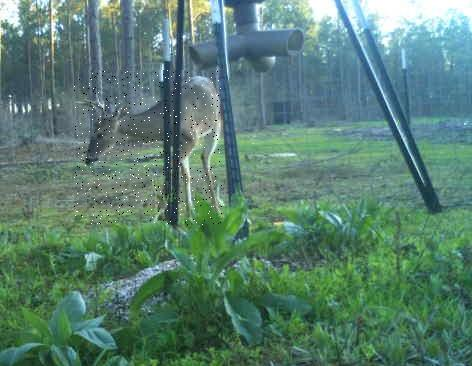Deer: (75, 70, 223, 225)
